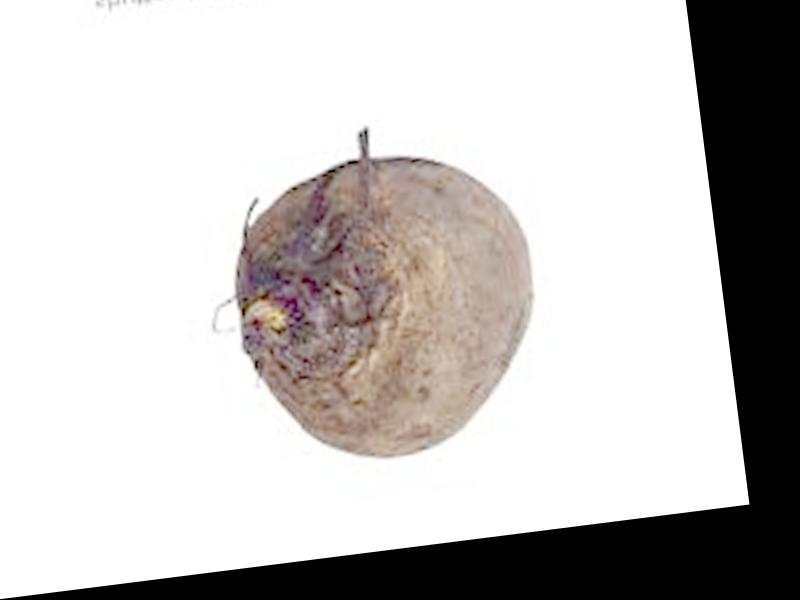Beet: (224, 141, 555, 473)
